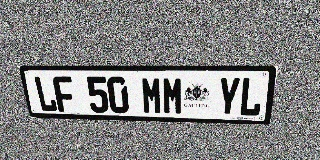0: (106, 76, 129, 113)
5: (86, 76, 110, 113)
F: (52, 76, 77, 112)
L: (238, 77, 265, 116), (33, 76, 58, 112)
M: (162, 77, 183, 115), (141, 77, 162, 114)
Y: (216, 77, 241, 116)
